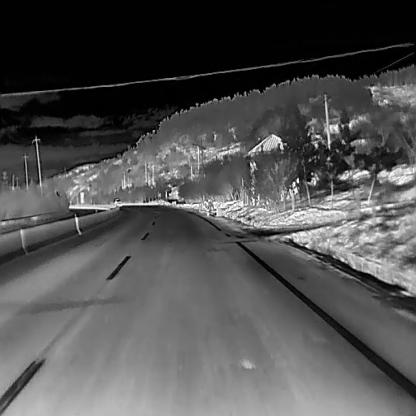car: (112, 197, 122, 207)
